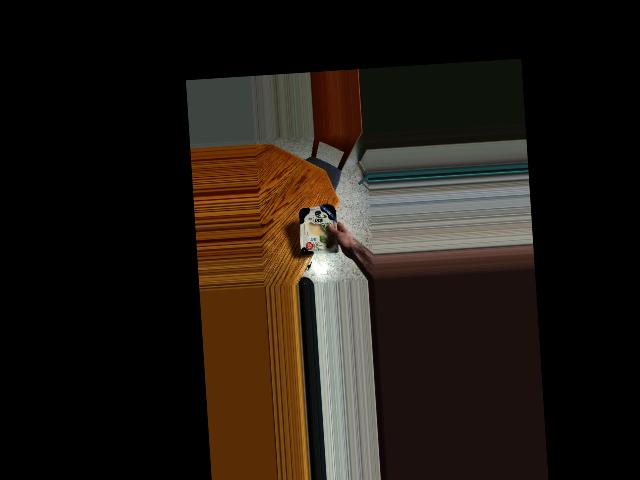cheese: (298, 203, 342, 258)
